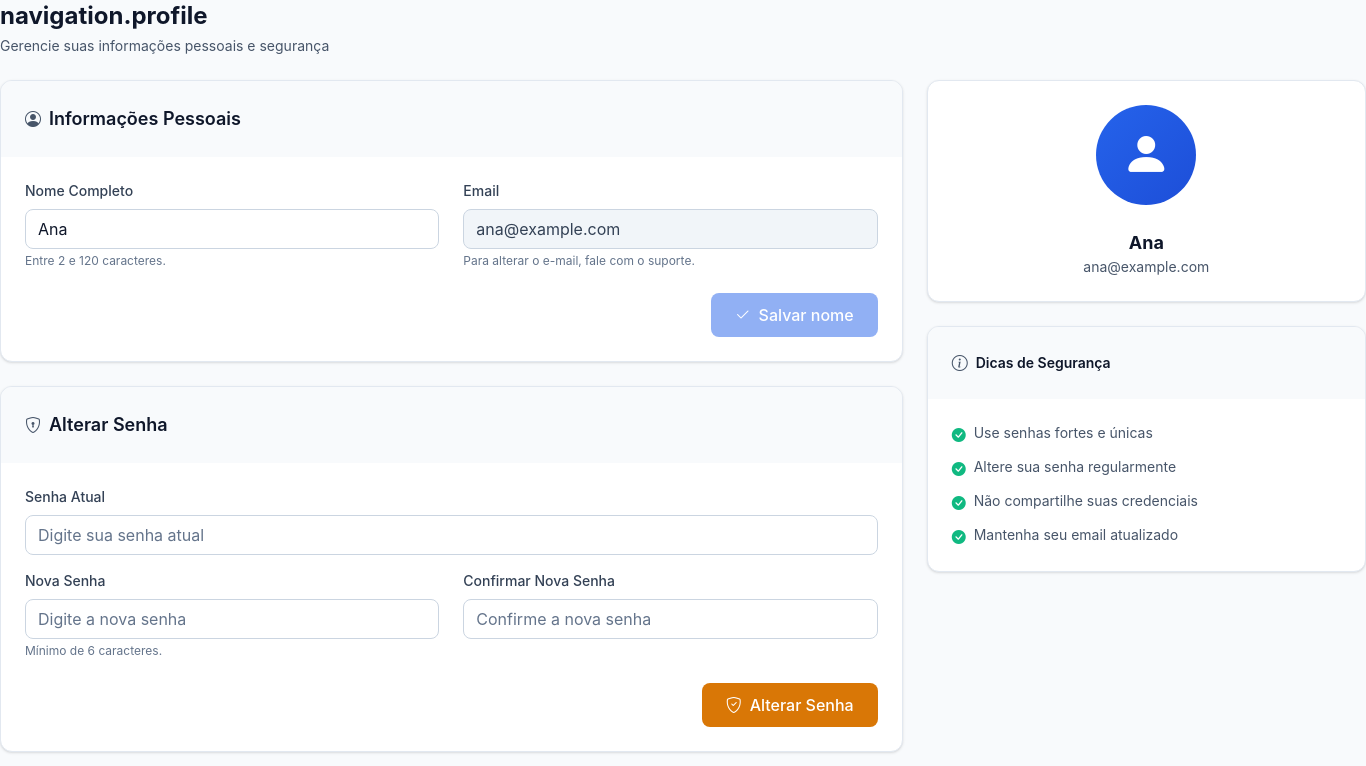
Test case: Profile › erro da API mostra texto fixo e nunca sucesso falso
Replace the text in the field labelled "Nome Completo" with "Ana Souza" at {"x": 232, "y": 229}, box [25,209,439,249]
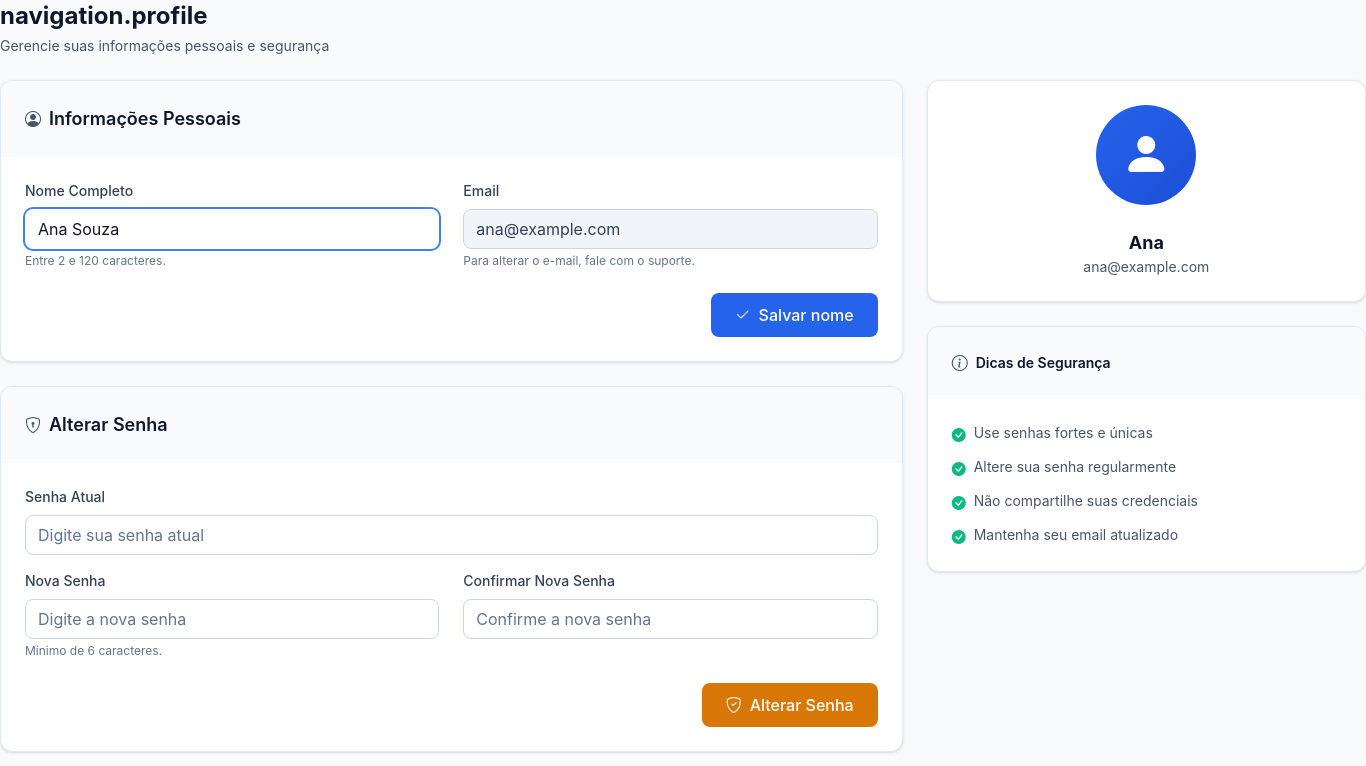
Click the button "Salvar nome" at {"x": 794, "y": 315}, box [711,293,878,337]
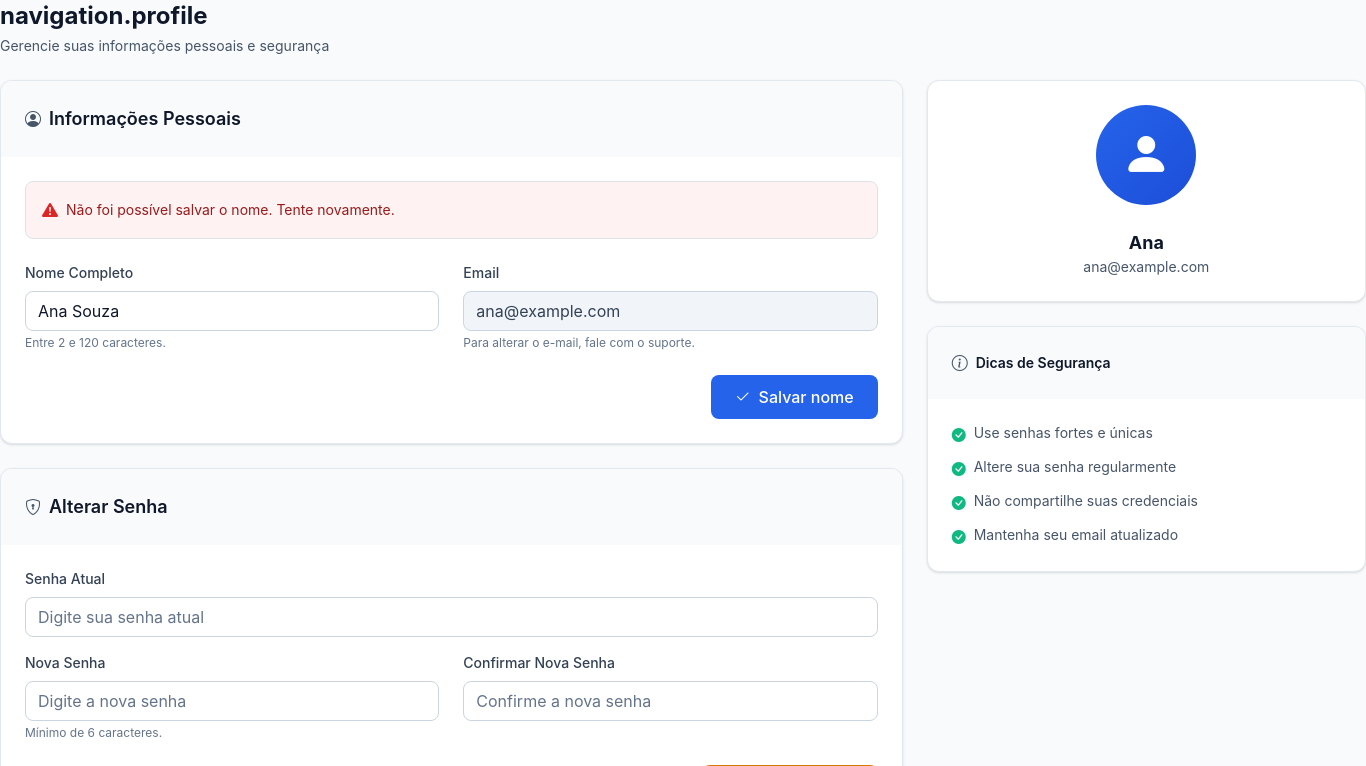
expect the message reads "Não foi possível salvar o nome. Tente novamente.": met, box [66,201,395,218]
